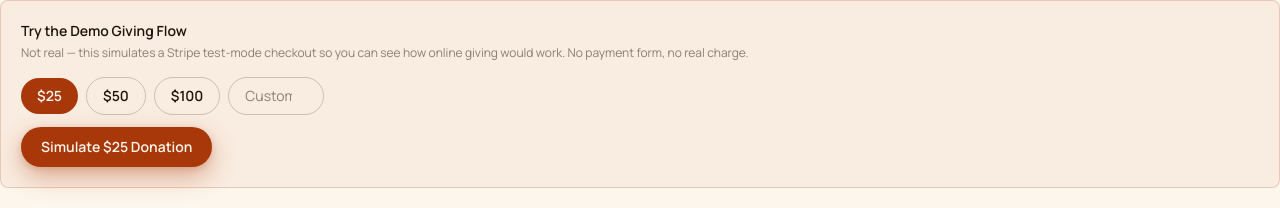
DemoDonationForm › simulates a donation with no real payment form and no real charge
Step 1. Click the button "Simulate $25 Donation" → (117,147), box 21,127 -> 212,167
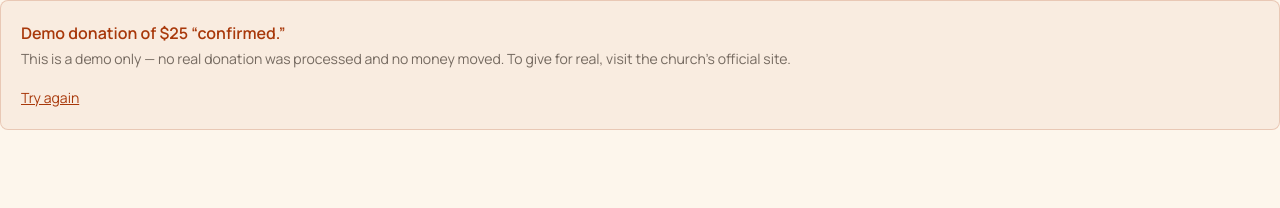
Check: the text "Demo donation of $25 “confirmed.”" is shown, box 21,22 -> 286,44
Check: the text "no real donation was processed" is shown, box 21,49 -> 791,68
Check: the number field labelled "card number" is gone
